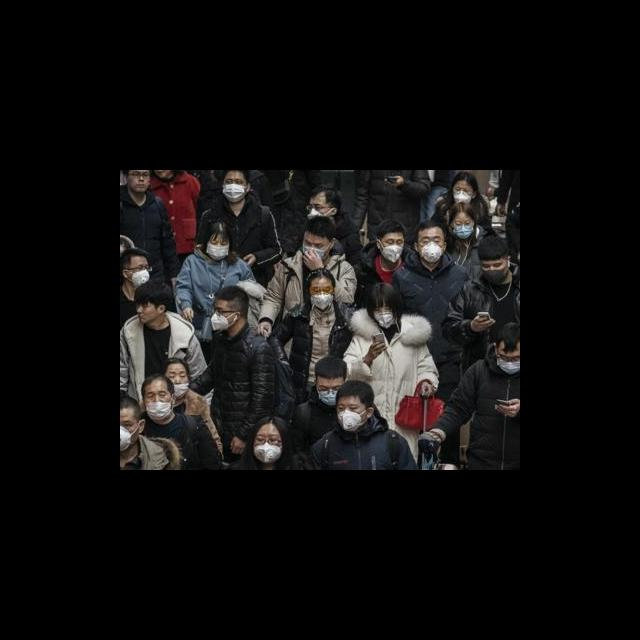Mask: (337, 411, 369, 432), (253, 443, 282, 464), (120, 425, 140, 455), (417, 242, 445, 263), (144, 403, 174, 422), (481, 268, 510, 284), (124, 270, 150, 287), (206, 242, 230, 260), (301, 245, 328, 261), (379, 244, 403, 262), (311, 293, 334, 311), (211, 314, 231, 333), (499, 359, 520, 377), (317, 388, 338, 406), (223, 185, 246, 201), (453, 225, 475, 239), (374, 314, 394, 329), (308, 208, 334, 219), (172, 384, 190, 397), (454, 191, 472, 203)
NO-Hardhat: (133, 281, 174, 303), (477, 236, 511, 262), (338, 381, 377, 402), (313, 356, 347, 380), (366, 282, 397, 307), (303, 217, 337, 238), (494, 322, 520, 349), (214, 285, 250, 304), (309, 183, 342, 202), (256, 415, 286, 432), (306, 267, 335, 284), (120, 392, 141, 415), (415, 218, 445, 234), (140, 374, 172, 389), (204, 216, 232, 233), (377, 221, 406, 236), (122, 248, 148, 264), (449, 204, 474, 217), (452, 173, 477, 185), (165, 356, 184, 370), (120, 233, 134, 249), (223, 170, 250, 178)
NO-Mask: (137, 311, 161, 325), (133, 179, 150, 193), (157, 171, 172, 179)
NO-Safety Vest: (398, 265, 467, 364), (358, 331, 421, 430), (470, 364, 520, 470), (214, 334, 263, 430), (461, 282, 520, 359), (121, 323, 186, 392), (209, 199, 266, 274), (120, 189, 164, 266), (142, 415, 199, 470), (150, 177, 197, 241), (323, 432, 399, 470), (367, 171, 415, 224), (307, 171, 358, 212), (299, 401, 336, 448), (445, 239, 481, 279), (359, 260, 395, 294), (250, 170, 282, 203), (333, 215, 352, 256), (506, 171, 520, 223), (173, 399, 206, 420), (120, 452, 158, 470), (243, 461, 304, 470)
Person: (397, 216, 471, 462), (345, 281, 437, 470), (189, 282, 276, 470), (421, 320, 520, 470), (267, 215, 356, 357), (121, 281, 213, 411), (272, 266, 352, 398), (176, 214, 258, 339), (441, 237, 520, 363), (307, 382, 417, 470), (199, 171, 283, 285), (138, 373, 224, 470), (160, 357, 225, 470), (285, 183, 361, 275), (120, 170, 179, 285), (353, 170, 431, 249), (354, 222, 420, 313), (289, 356, 349, 452), (287, 170, 367, 232), (148, 170, 200, 265), (232, 414, 309, 470), (433, 172, 491, 244), (439, 202, 486, 282), (120, 391, 165, 470), (120, 248, 152, 330), (249, 171, 287, 228), (494, 170, 520, 247), (192, 171, 222, 213), (427, 170, 454, 213), (120, 231, 134, 283), (488, 170, 501, 197)
